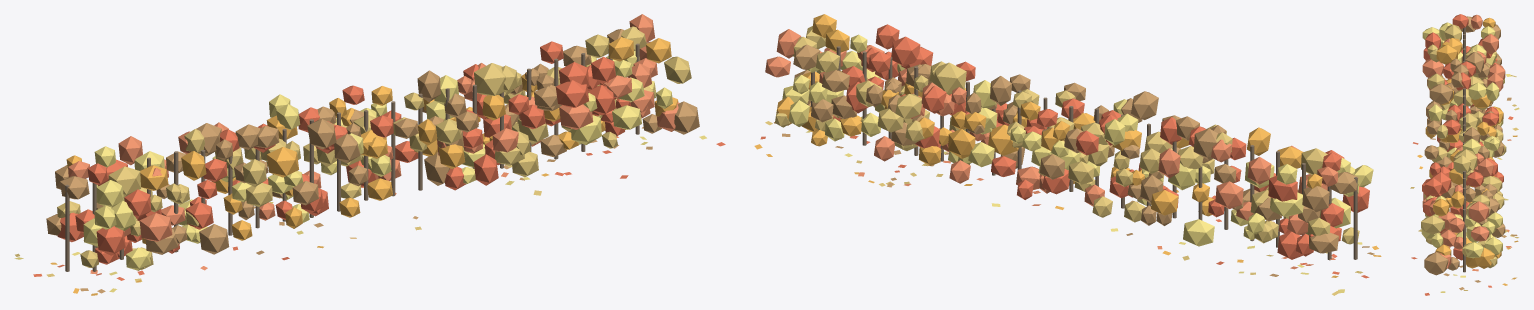
3 views of the same model, side by side, from view 1: azimuth 30°, elevation 25°; view 2: azimuth 150°, elevation 25°; view 3: azimuth 270°, elevation 25° (orthographic). The views are drawn at different scales.
Parts seen in each view (by area): view 1: object 1; view 2: object 1; view 3: object 1.
Boxes of the visible parts, x1,y1,x2,y2 form: object 1: (46, 14, 699, 271); object 1: (765, 14, 1373, 260); object 1: (1421, 14, 1506, 275).
Bounding box in the file's own units: 10.96 × 1.86 × 2.28.
